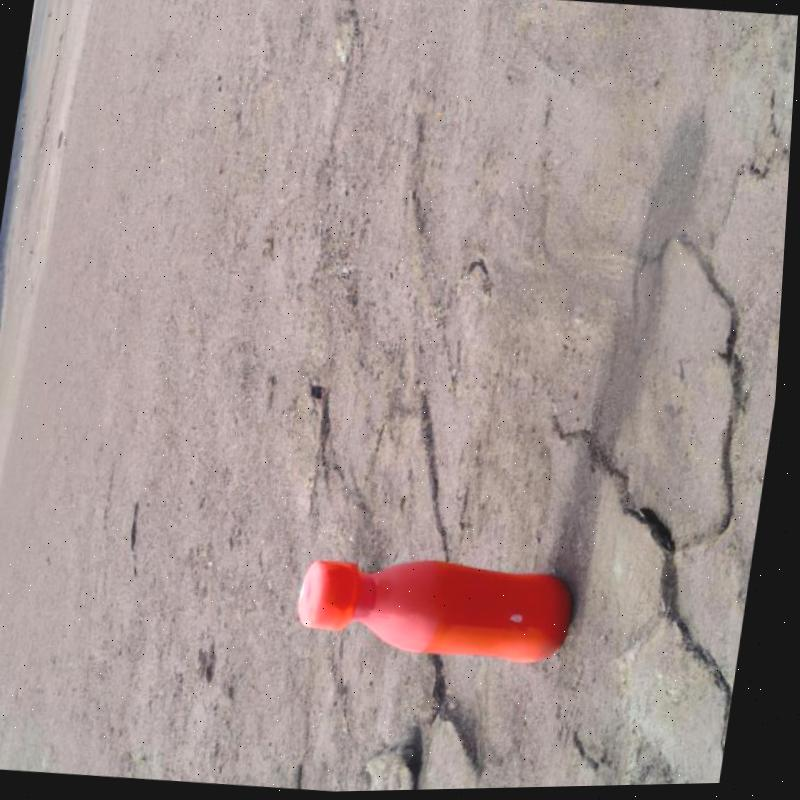botella: (299, 549, 587, 674)
